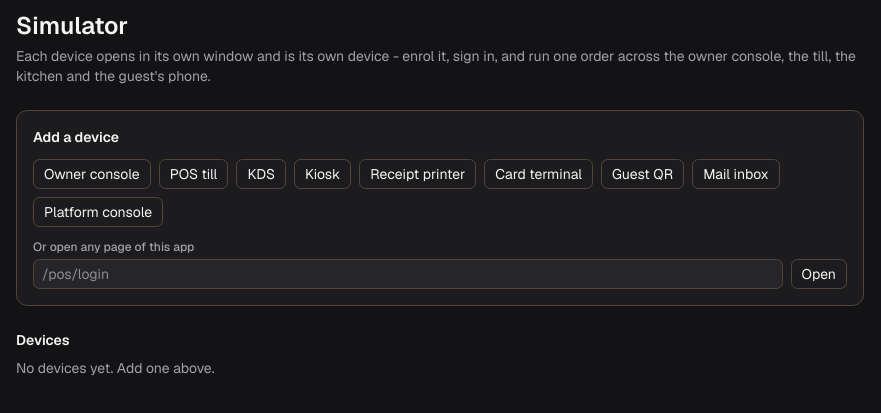
Scenario: SimulatorDevices (PE-26 / CU-25) › refuses a custom address that is not a page of this app
The width and height of the screenshot is (881, 413).
expect the text "No devices yet. Add one above." is shown: met, box [16,359,214,377]
Type "https://example.com" into the field with test id "simulator-custom-path". click: (408, 274)
box: [33,259,783,289]
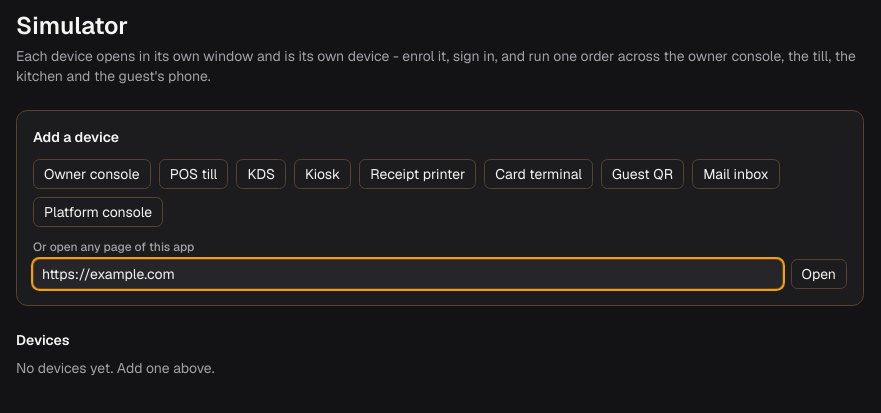
Click the button with test id "simulator-custom-add". click: (819, 274)
box: [791,259,847,289]
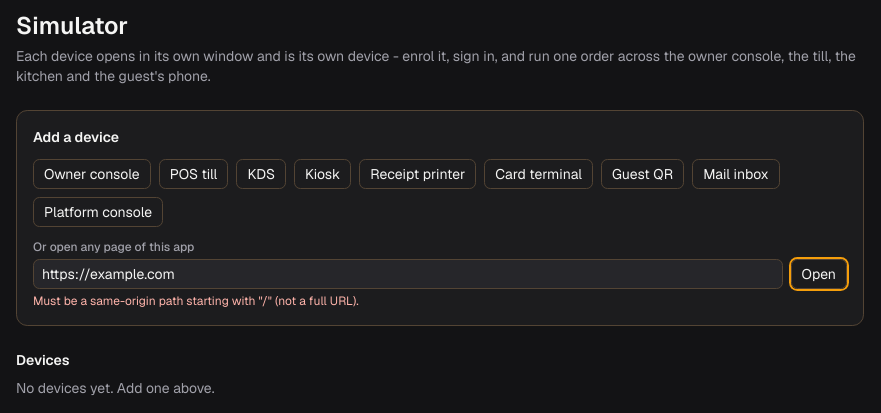
expect the message shows "same-origin path": met, box [33,293,359,309]
